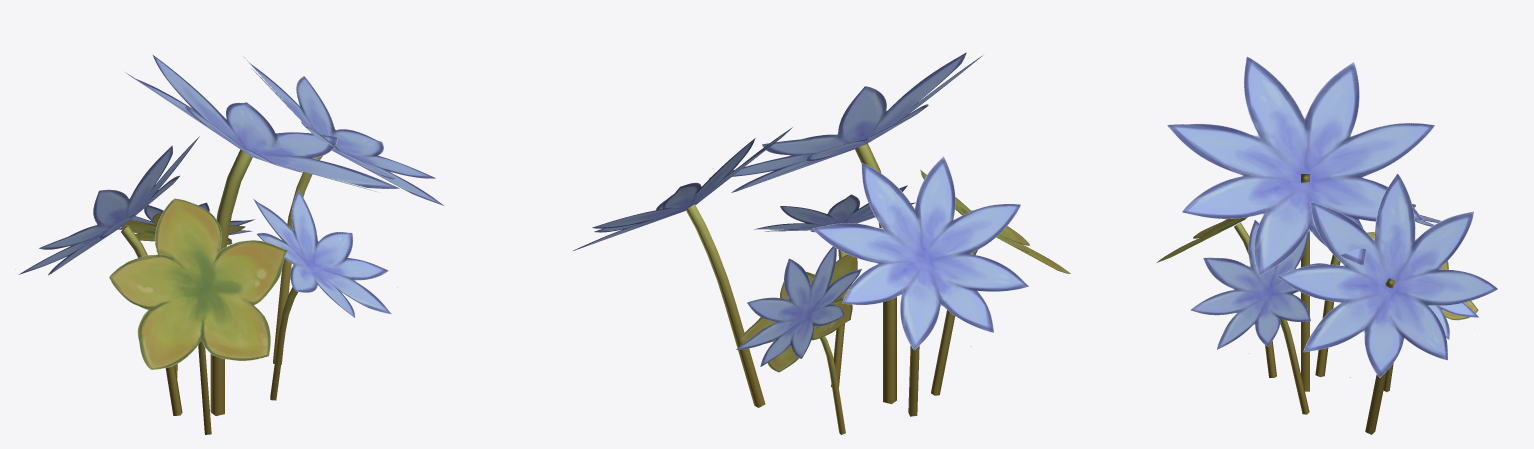
Rendered from SM_Flowers_3.fbx.
3 views of the same model, side by side, from view 1: azimuth 30°, elevation 25°; view 2: azimuth 150°, elevation 25°; view 3: azimuth 270°, elevation 25° (orthographic). The views are drawn at different scales.
Visible parts, largest first — view 1: polySurface520, polySurface515, polySurface524, polySurface506, polySurface518, polySurface516, polySurface499, polySurface507, polySurface519, polySurface525, polySurface522; view 2: polySurface518, polySurface499, polySurface515, polySurface506, polySurface507, polySurface524, polySurface516, polySurface520, polySurface522, polySurface519; view 3: polySurface515, polySurface506, polySurface524, polySurface499, polySurface516, polySurface525, polySurface507, polySurface520, polySurface522, polySurface519.
Part boxes in pixels (<box>): polySurface520: <box>109,198,287,369</box>; polySurface515: <box>124,54,399,191</box>; polySurface524: <box>253,190,397,317</box>; polySurface506: <box>243,56,444,205</box>; polySurface518: <box>15,136,199,275</box>; polySurface516: <box>210,149,252,415</box>; polySurface499: <box>118,202,254,378</box>; polySurface507: <box>273,156,322,364</box>; polySurface519: <box>121,225,182,415</box>; polySurface525: <box>270,287,297,400</box>; polySurface522: <box>198,341,211,434</box>; polySurface518: <box>812,156,1028,350</box>; polySurface499: <box>736,246,861,434</box>; polySurface515: <box>709,52,982,192</box>; polySurface506: <box>573,127,792,250</box>; polySurface507: <box>686,204,765,407</box>; polySurface524: <box>754,185,915,232</box>; polySurface516: <box>855,143,896,404</box>; polySurface520: <box>920,169,1070,273</box>; polySurface522: <box>931,250,977,395</box>; polySurface519: <box>908,345,919,416</box>; polySurface515: <box>1167,56,1434,278</box>; polySurface506: <box>1277,173,1497,377</box>; polySurface524: <box>1190,220,1327,353</box>; polySurface499: <box>1367,232,1478,391</box>; polySurface516: <box>1301,174,1309,391</box>; polySurface525: <box>1280,319,1309,414</box>; polySurface507: <box>1365,278,1395,434</box>; polySurface520: <box>1156,217,1247,262</box>; polySurface522: <box>1234,222,1276,377</box>; polySurface519: <box>1315,254,1340,376</box>.
Size of the model in its own units: 17.55 by 13.01 by 14.27.
